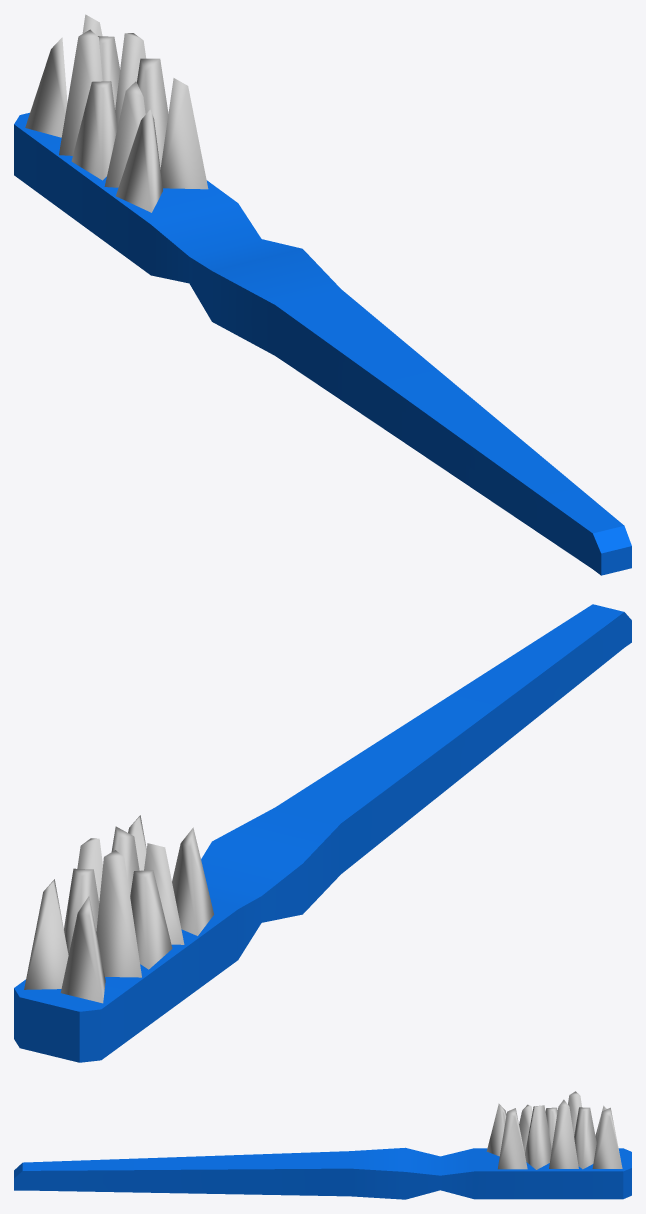
File: Toothbrush_B.FBX
The picture shows the model from 3 angles, top to bottom: view 1: azimuth 30°, elevation 25°; view 2: azimuth 150°, elevation 25°; view 3: azimuth 270°, elevation 25°; orthographic projection. The views are drawn at different scales.
Parts seen in each view (by area): view 1: Tooth_Brush_01; view 2: Tooth_Brush_01; view 3: Tooth_Brush_01.
Boxes of the visible parts, x1,y1,x2,y2 form: Tooth_Brush_01: (14,14,631,575); Tooth_Brush_01: (14,604,631,1062); Tooth_Brush_01: (14,1091,631,1199).
Bounding box in the file's own units: 6.59 × 11.67 × 71.32.
